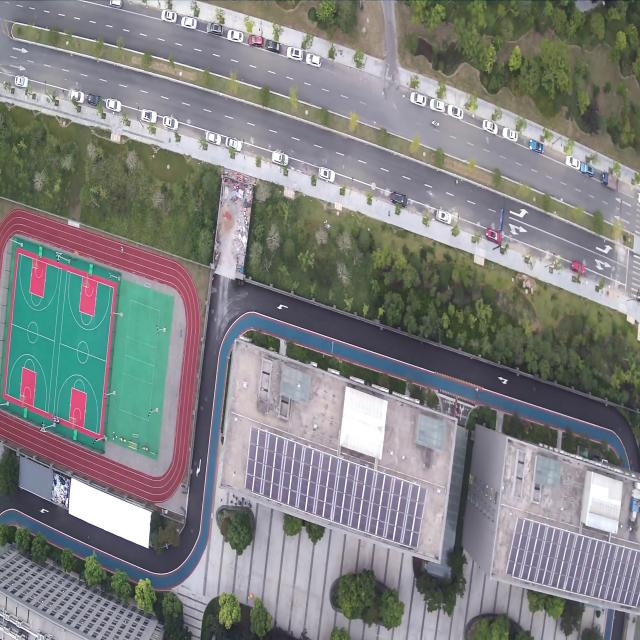drone: (232, 395, 239, 404)
